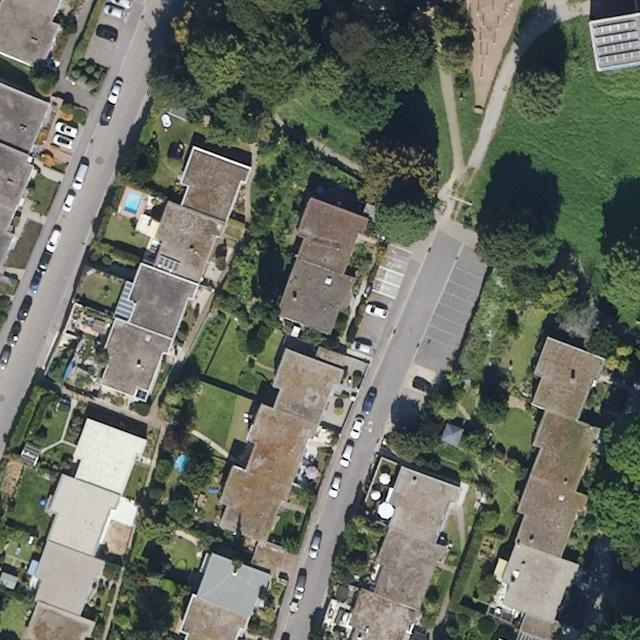PV: (589, 18, 639, 67), (152, 249, 184, 276)
